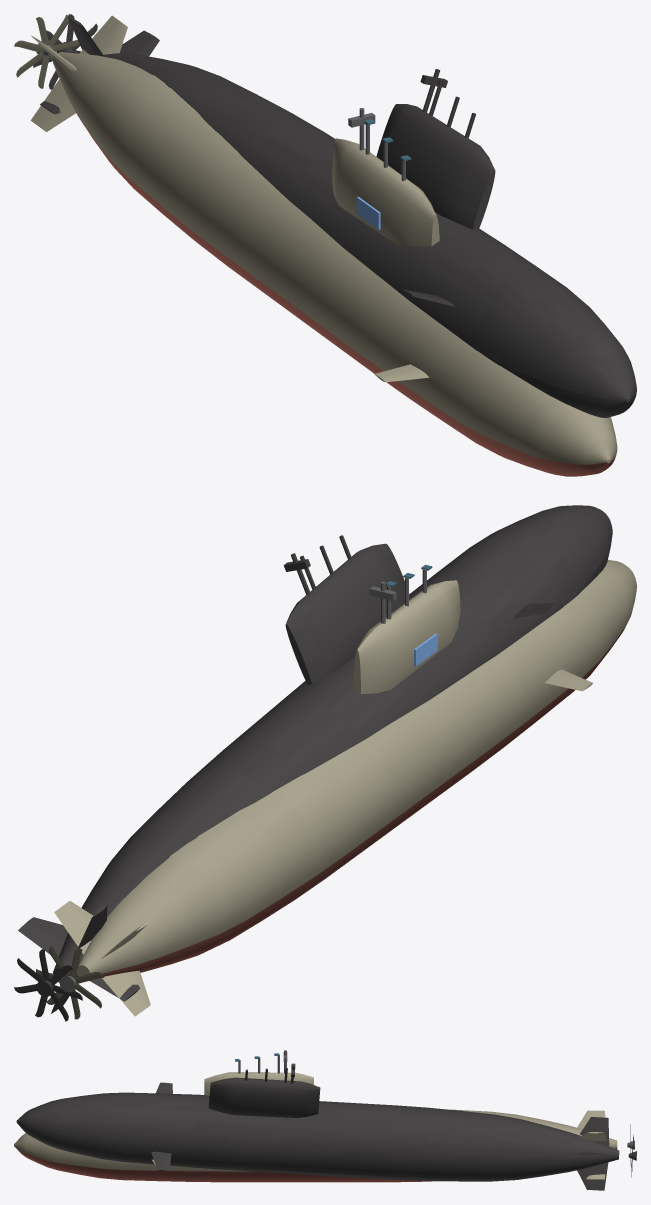
Rendered from submarine__dolphin_i.glb.
The picture shows the model from 3 angles, top to bottom: view 1: azimuth 30°, elevation 25°; view 2: azimuth 150°, elevation 25°; view 3: azimuth 270°, elevation 25°; orthographic projection. The views are drawn at different scales.
Visible parts, largest first — view 1: Hull_Mesh, Wreck; view 2: Hull_Mesh, Wreck; view 3: Wreck, Hull_Mesh.
Part boxes in pixels (box(x1,y1,x2,y2)): Hull_Mesh: box(14, 14, 617, 476); Wreck: box(33, 14, 636, 417); Hull_Mesh: box(36, 560, 636, 1019); Wreck: box(14, 505, 612, 1021); Wreck: box(16, 1063, 636, 1190); Hull_Mesh: box(14, 1053, 634, 1182).
Size of what is drawn, in the model's own units: 11.93 by 13.68 by 56.79.
